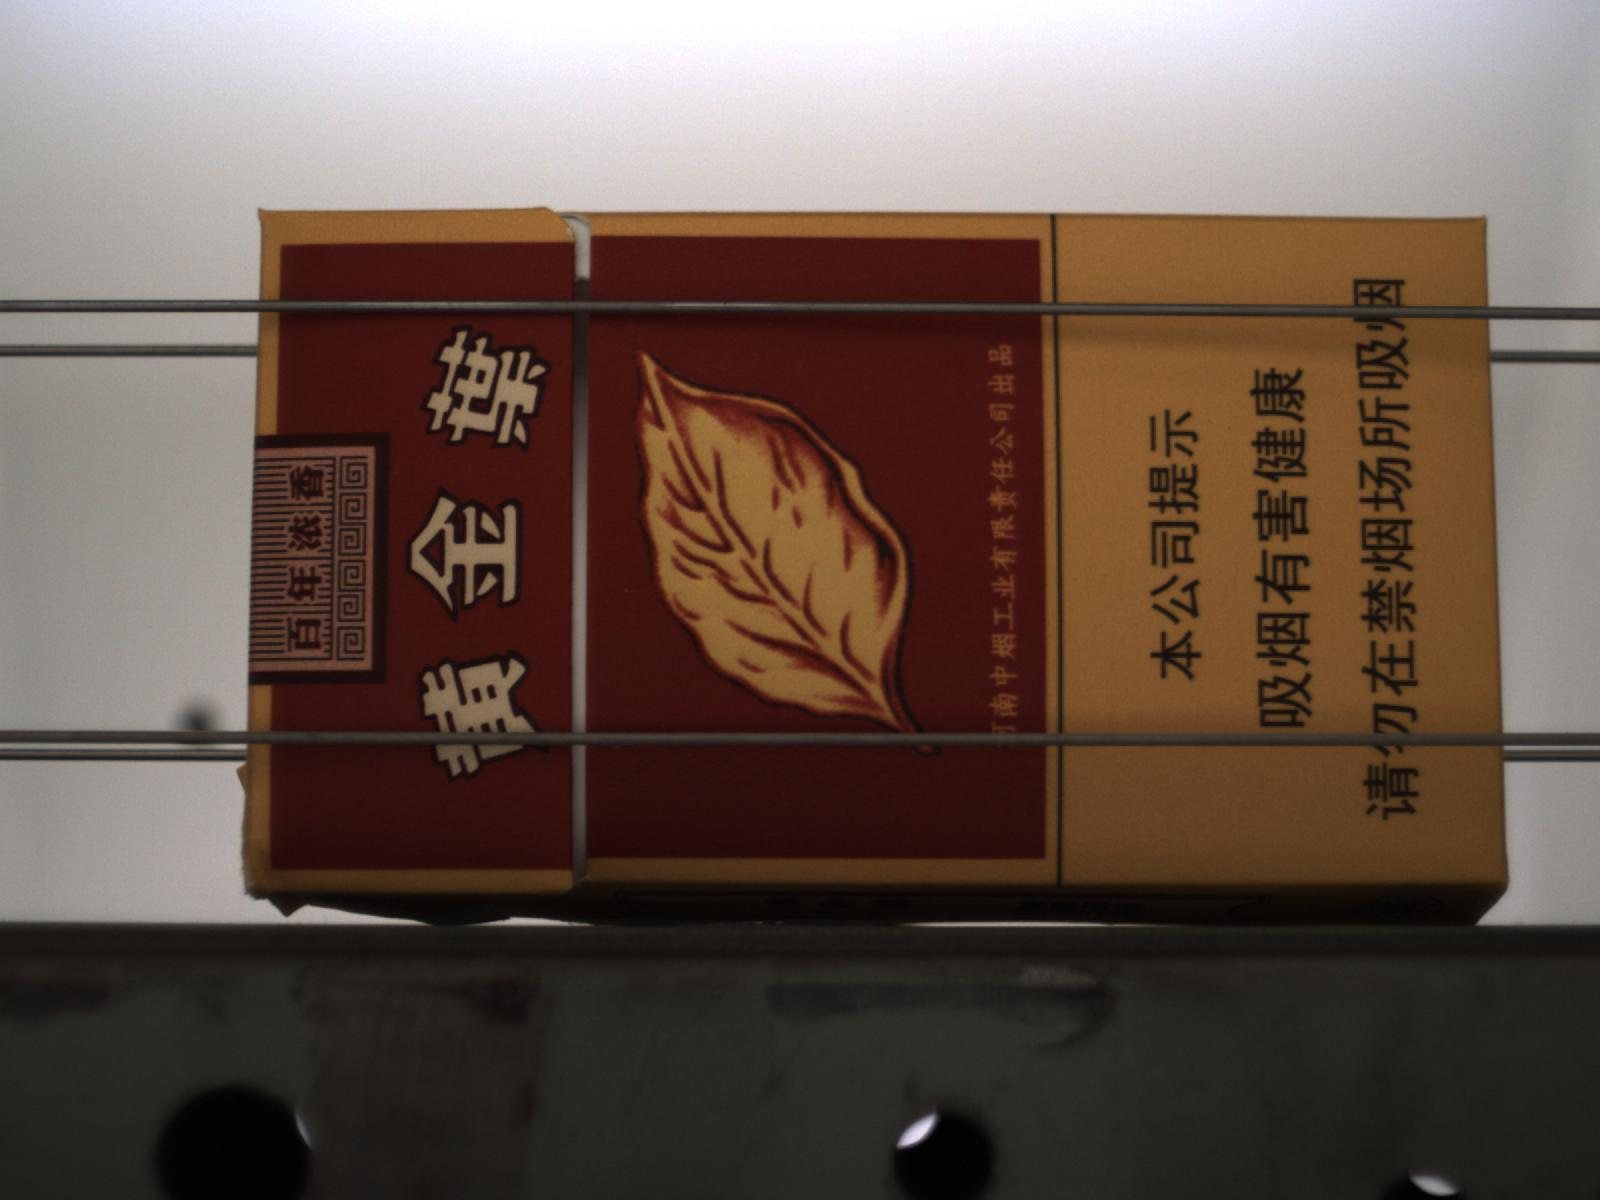boxDamage_front: (517, 874, 1512, 926)
dirtyPrint: (621, 586, 632, 596)
lower_upwarp: (247, 887, 572, 930)
